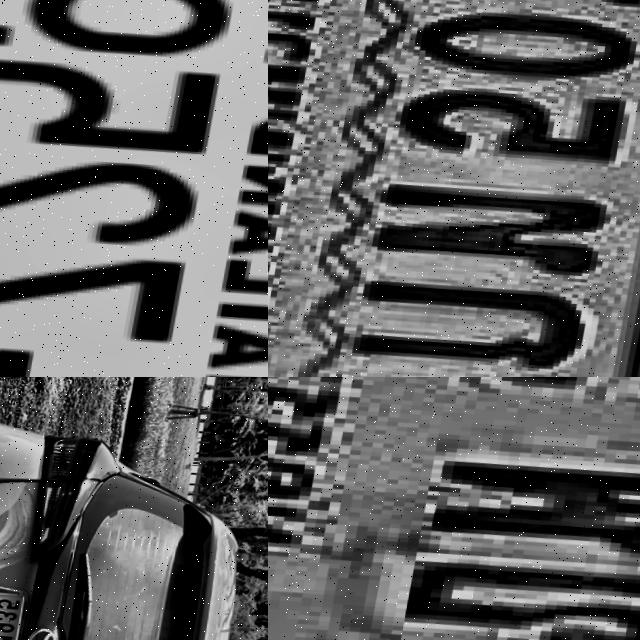license-plate: (268, 0, 640, 377), (0, 0, 268, 377), (268, 377, 640, 640), (0, 580, 38, 640)
